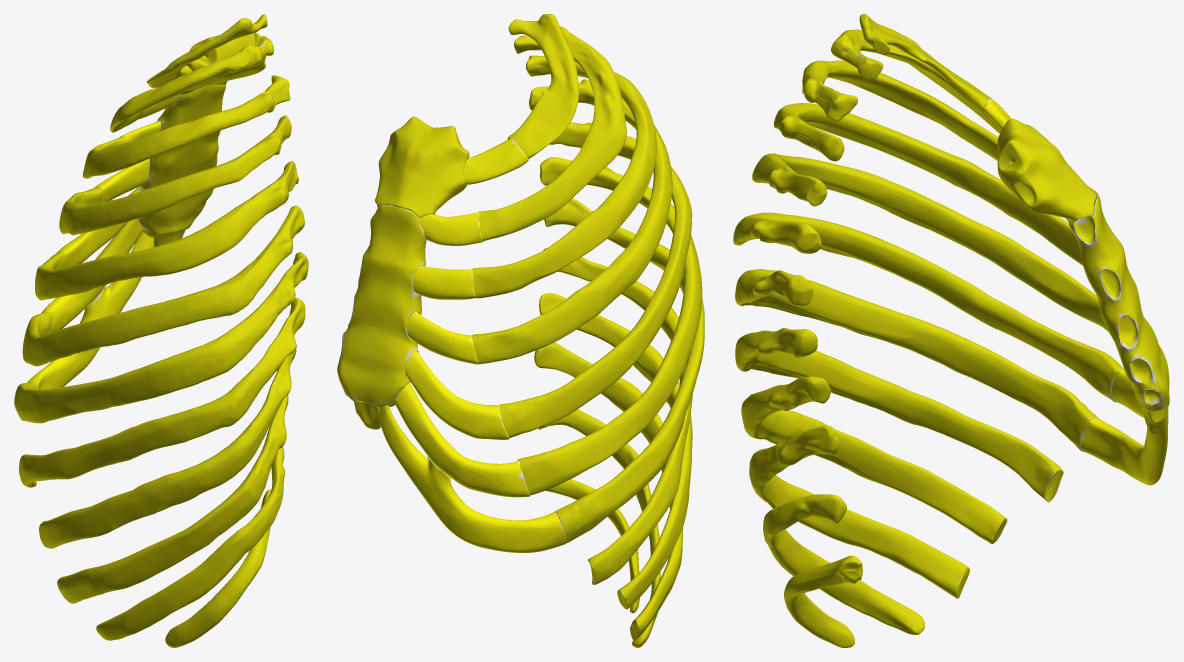
The model's file is rib_cage_L.glb.
3 renders of one model, left to right at view 1: azimuth 30°, elevation 25°; view 2: azimuth 150°, elevation 25°; view 3: azimuth 270°, elevation 25°, orthographic. The views are drawn at different scales.
Parts seen in each view (by area): view 1: rib_L07, rib_L06, rib_L08, rib_L09, rib_L05, rib_L10, rib_L04, rib_L11, sternum_body, rib_L03, rib_L02, costal_cartilage_L07 (+6 smaller); view 2: sternum_body, rib_L06, rib_L04, rib_L05, rib_L03, rib_L02, rib_L07, costal_cartilage_L07, sternum_manubrium, rib_L08, rib_L01, rib_L09 (+10 smaller); view 3: rib_L07, rib_L06, rib_L05, rib_L08, rib_L09, rib_L04, rib_L10, sternum_body, sternum_manubrium, rib_L11, rib_L03, rib_L12 (+4 smaller).
Boxes of the visible parts, x1=… form: rib_L07: x1=14, y1=252, x2=308, y2=423; rib_L06: x1=22, y1=205, x2=304, y2=366; rib_L08: x1=19, y1=297, x2=305, y2=487; rib_L09: x1=39, y1=343, x2=296, y2=548; rib_L05: x1=35, y1=161, x2=298, y2=300; rib_L10: x1=57, y1=394, x2=288, y2=603; rib_L04: x1=59, y1=115, x2=291, y2=235; rib_L11: x1=96, y1=446, x2=285, y2=640; sternum_body: x1=136, y1=84, x2=225, y2=237; rib_L03: x1=82, y1=75, x2=290, y2=178; rib_L02: x1=110, y1=36, x2=273, y2=132; costal_cartilage_L07: x1=27, y1=232, x2=154, y2=389; sternum_body: x1=337, y1=204, x2=426, y2=407; rib_L06: x1=517, y1=157, x2=702, y2=495; rib_L04: x1=471, y1=79, x2=672, y2=363; rib_L05: x1=499, y1=122, x2=692, y2=438; rib_L03: x1=472, y1=55, x2=656, y2=298; rib_L02: x1=478, y1=26, x2=626, y2=240; rib_L07: x1=544, y1=198, x2=704, y2=543; costal_cartilage_L07: x1=378, y1=405, x2=566, y2=552; sternum_manubrium: x1=375, y1=116, x2=469, y2=218; rib_L08: x1=543, y1=248, x2=692, y2=584; rib_L01: x1=507, y1=14, x2=579, y2=158; rib_L09: x1=539, y1=293, x2=692, y2=609; rib_L07: x1=735, y1=269, x2=1098, y2=451; rib_L06: x1=733, y1=212, x2=1123, y2=402; rib_L05: x1=752, y1=153, x2=1108, y2=331; rib_L08: x1=735, y1=328, x2=1063, y2=502; rib_L09: x1=741, y1=376, x2=1007, y2=543; rib_L04: x1=774, y1=103, x2=1082, y2=265; rib_L10: x1=749, y1=425, x2=969, y2=598; sternum_body: x1=1069, y1=191, x2=1169, y2=412; sternum_manubrium: x1=997, y1=118, x2=1096, y2=225; rib_L11: x1=763, y1=494, x2=924, y2=634; rib_L03: x1=802, y1=60, x2=998, y2=160; rib_L12: x1=784, y1=555, x2=862, y2=647.
Size of the model in its own units: 0.1631 by 0.3624 by 0.2101.
